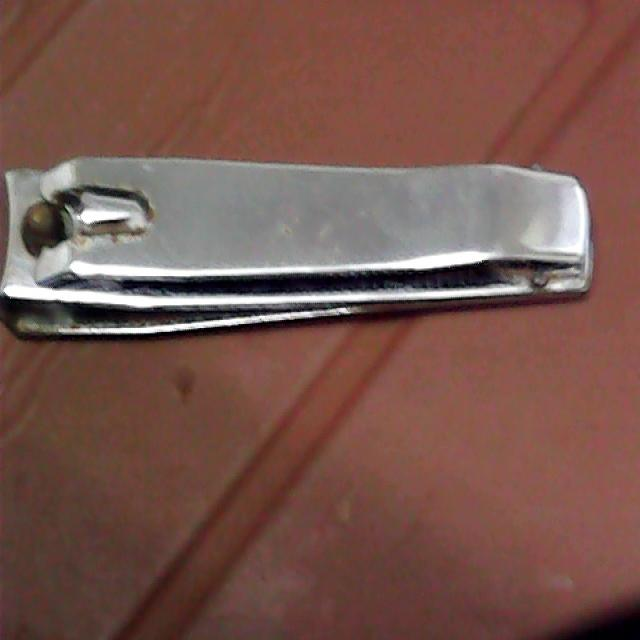Nail_clipper: (0, 156, 593, 336)
